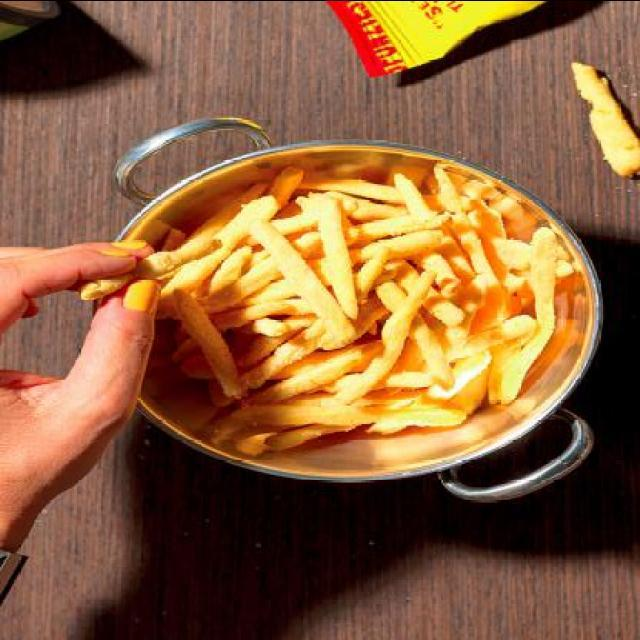Chips packaged: (187, 186, 565, 440)
